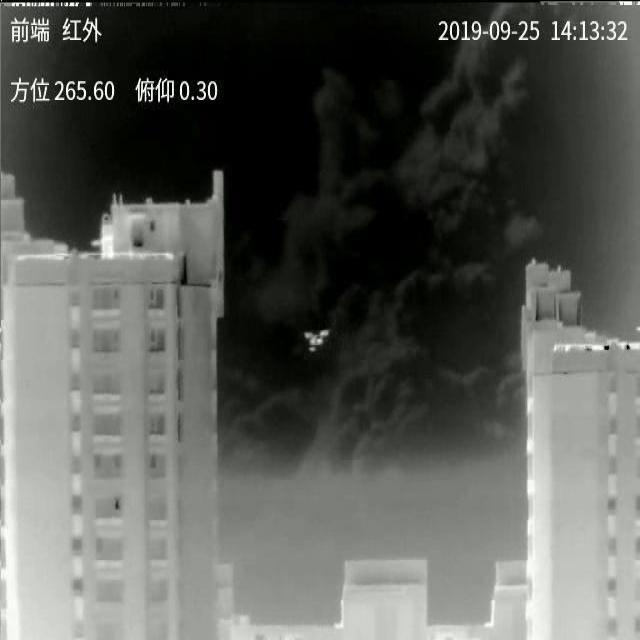drone: (304, 330, 330, 352)
